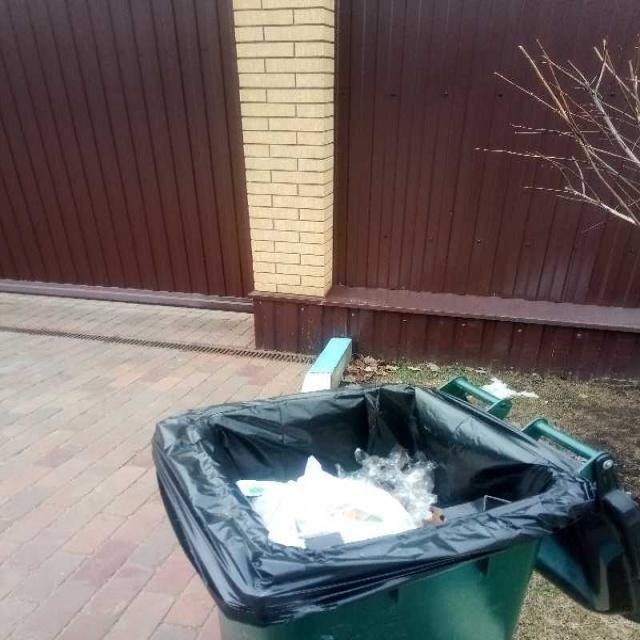Dumpster: (150, 376, 640, 640)
